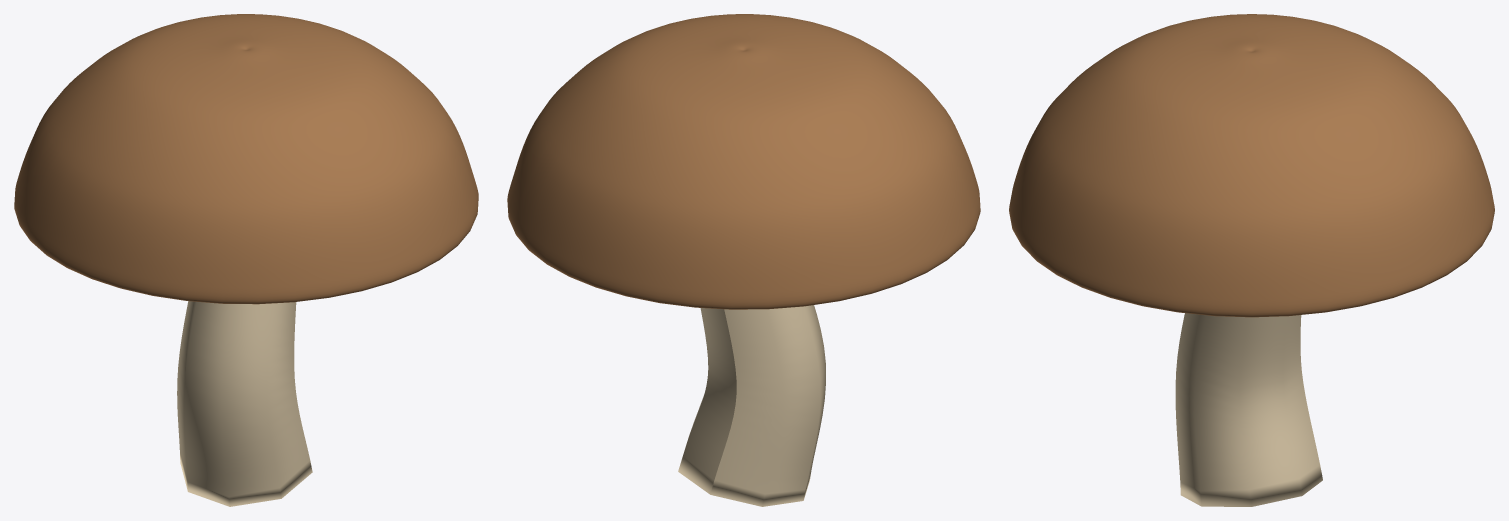
File: props_p6__p6_mushroom.glb
3 views of the same model, side by side, from view 1: azimuth 30°, elevation 25°; view 2: azimuth 150°, elevation 25°; view 3: azimuth 270°, elevation 25° (orthographic). The views are drawn at different scales.
Parts seen in each view (by area): view 1: cap, curved_stem; view 2: cap, curved_stem; view 3: cap, curved_stem.
Boxes of the visible parts, left/top/right/bottom form: cap: left=14, top=14, right=478, bottom=304; curved_stem: left=177, top=301, right=312, bottom=506; cap: left=507, top=14, right=980, bottom=309; curved_stem: left=678, top=305, right=825, bottom=506; cap: left=1009, top=14, right=1494, bottom=317; curved_stem: left=1175, top=313, right=1322, bottom=506.
Bounding box in the file's own units: 0.0747 × 0.0763 × 0.0747.
